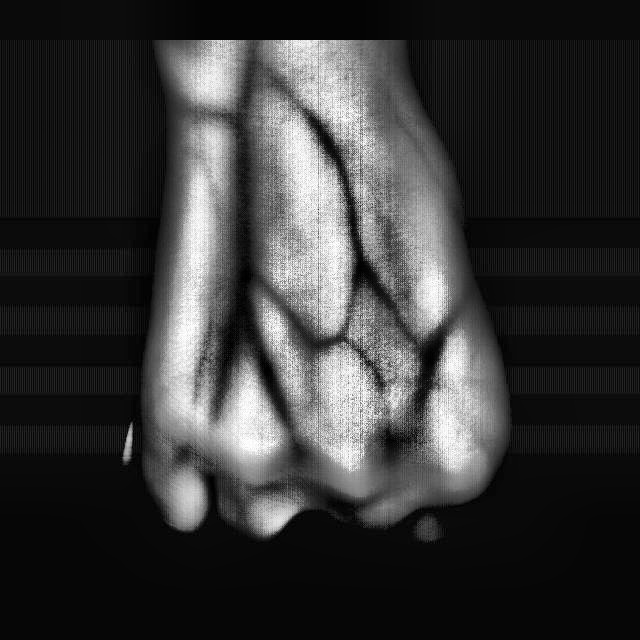Vein: (231, 96, 258, 266)
